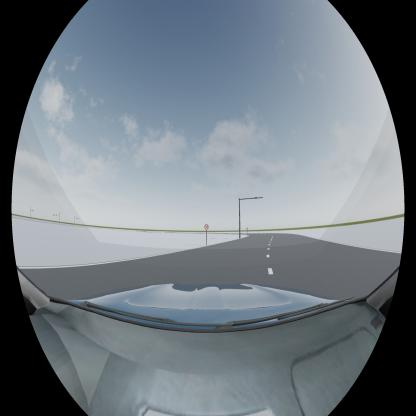Speed Limit 110: (204, 224, 209, 230)
